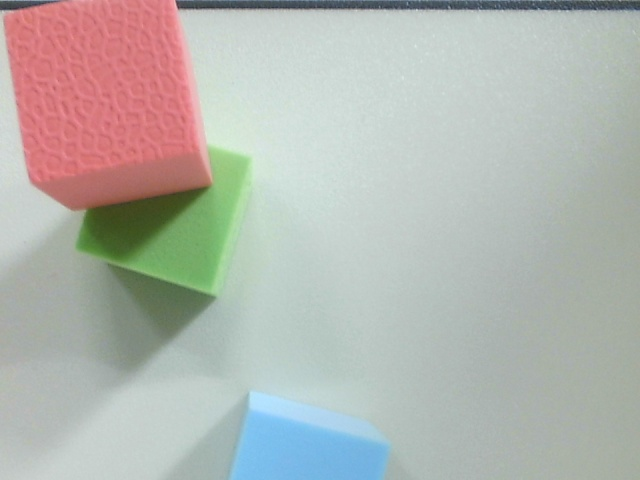greencube: (68, 135, 269, 317)
